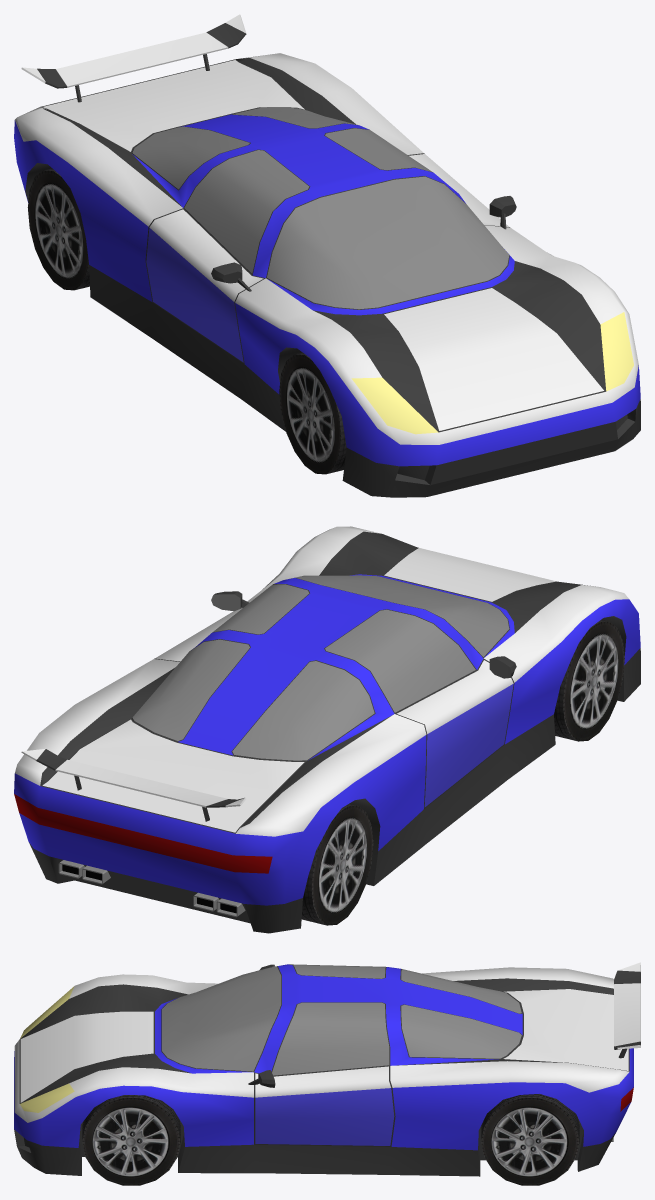
Rendered from car_8.FBX.
3 views of the same model, one above another, from view 1: azimuth 30°, elevation 25°; view 2: azimuth 150°, elevation 25°; view 3: azimuth 270°, elevation 25° (orthographic). The views are drawn at different scales.
Parts seen in each view (by area): view 1: Group001, Cylinder051, Cylinder052; view 2: Group001, Cylinder052, Cylinder051; view 3: Group001, Cylinder045, Cylinder050.
Boxes of the visible parts, left/top/right/bottom form: Group001: left=14, top=14, right=640, bottom=497; Cylinder051: left=279, top=352, right=346, bottom=474; Cylinder052: left=27, top=168, right=89, bottom=290; Group001: left=14, top=526, right=640, bottom=933; Cylinder052: left=301, top=803, right=373, bottom=925; Cylinder051: left=554, top=619, right=624, bottom=741; Group001: left=14, top=962, right=640, bottom=1176; Cylinder045: left=481, top=1094, right=579, bottom=1185; Cylinder050: left=82, top=1095, right=180, bottom=1185.
Bounding box in the file's own units: 2.14 × 1.22 × 4.88.
